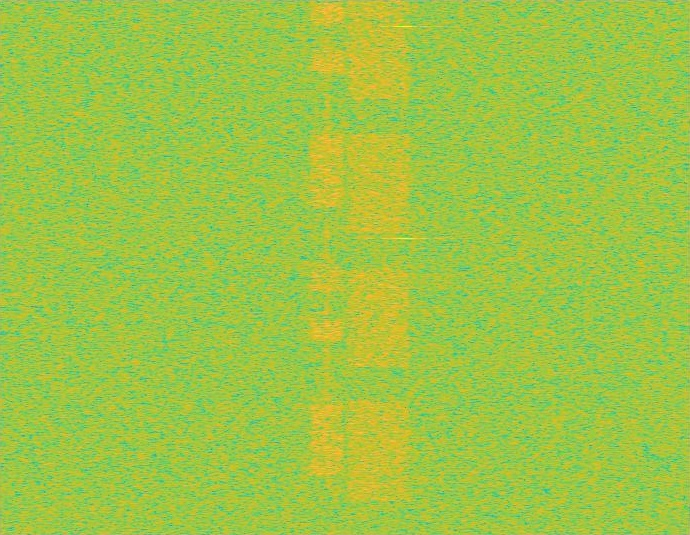5G: (344, 0, 413, 534)
DSSS: (325, 0, 329, 534)
LTE: (310, 0, 344, 534)
Radar: (398, 0, 412, 534)
